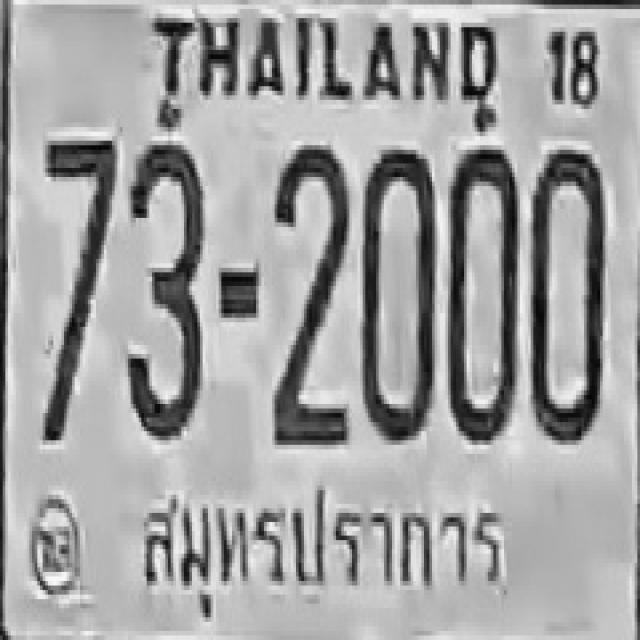0: (528, 146, 605, 440), (360, 146, 435, 440), (446, 146, 518, 440)
2: (271, 141, 348, 440)
3: (125, 141, 203, 440)
7: (42, 134, 114, 442), (44, 136, 116, 400)
SamutPrakan: (130, 474, 514, 615)
